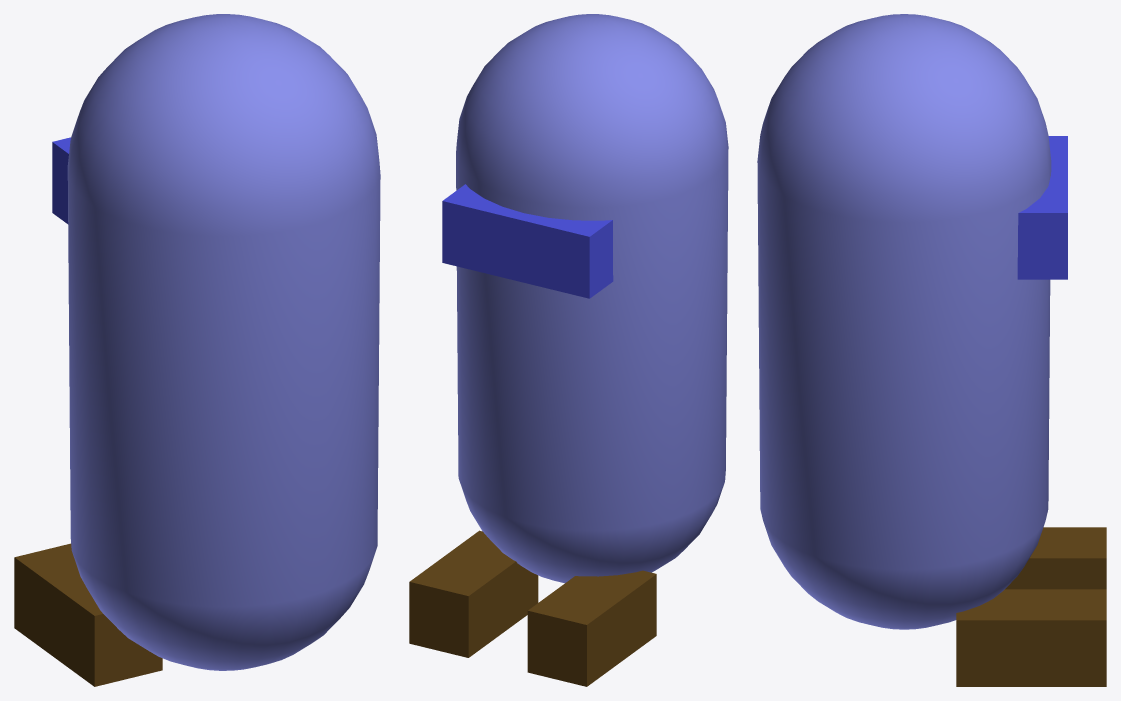
File: BlueCharacter.fbx
3 views of the same model, side by side, from view 1: azimuth 30°, elevation 25°; view 2: azimuth 150°, elevation 25°; view 3: azimuth 270°, elevation 25° (orthographic). The views are drawn at different scales.
Visible parts, largest first — view 1: Cube, Cube.001; view 2: Cube, Cube.001, Cube.002; view 3: Cube, Cube.002, Cube.001.
Part boxes in pixels (box(x1,y1,x2,y2)): Cube: box(52, 14, 380, 670); Cube.001: box(14, 543, 162, 686); Cube: box(442, 14, 728, 583); Cube.001: box(527, 570, 656, 686); Cube.002: box(409, 530, 538, 657); Cube: box(757, 14, 1067, 629); Cube.002: box(956, 589, 1106, 686); Cube.001: box(1005, 527, 1106, 589).
Size of the model in its own units: 200 by 460 by 238.
